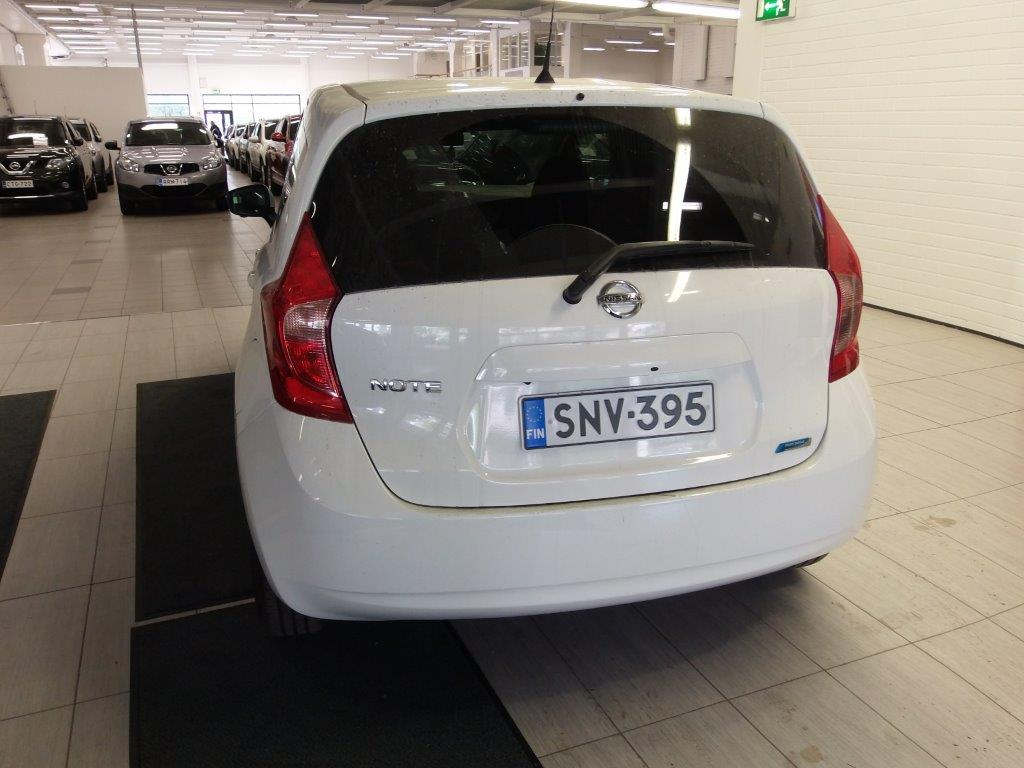license: (514, 379, 715, 448)
